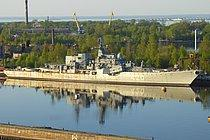MIL_Ship: (3, 43, 205, 88)
